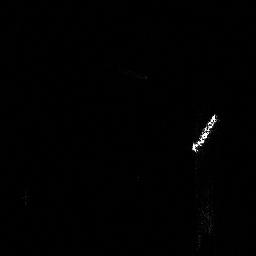ship: (189, 111, 219, 154)
